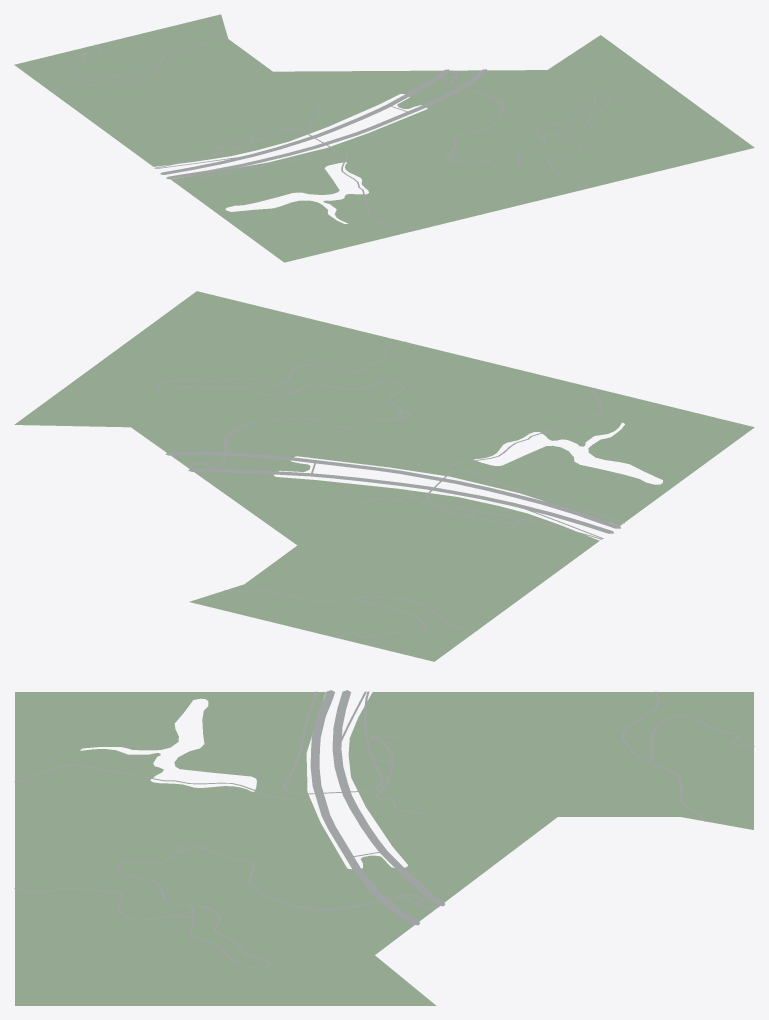
File: 17_7-known-coarse.glb
3 renders of one model, top to bottom at view 1: azimuth 30°, elevation 25°; view 2: azimuth 150°, elevation 25°; view 3: azimuth 270°, elevation 25°, orthographic. The views are drawn at different scales.
Bounding box in the file's own units: 1006 × 0.1 × 998.
